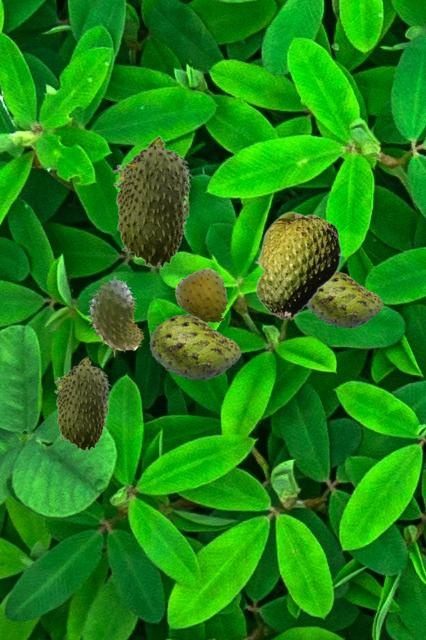guyabano: (113, 135, 192, 267), (254, 211, 341, 320), (149, 314, 240, 379), (54, 356, 110, 450), (86, 276, 143, 356), (306, 271, 382, 327), (174, 268, 227, 323), (306, 214, 338, 234)
